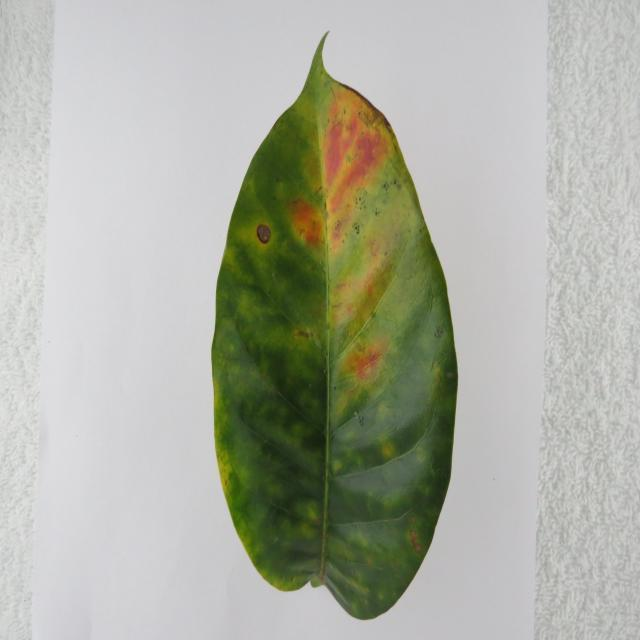DeficienciaNutricional-Fosforo: (211, 37, 458, 618)
